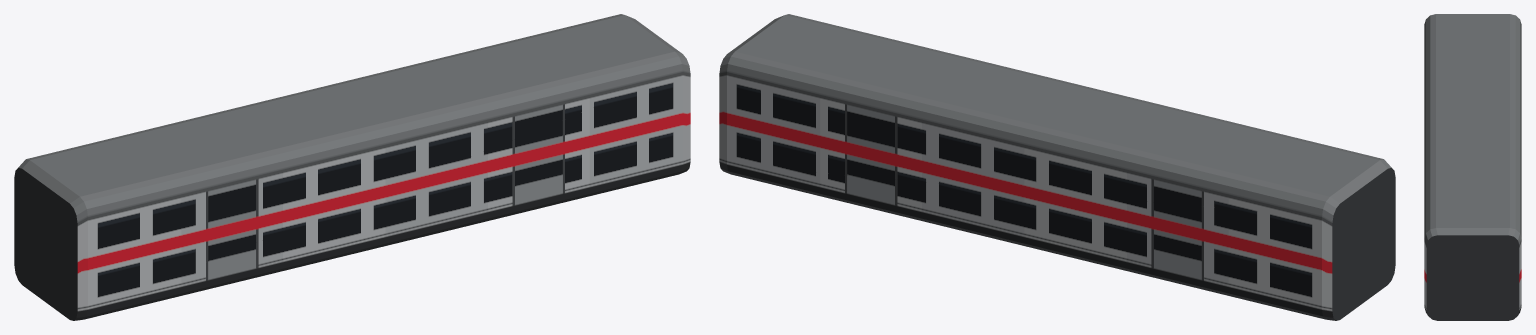
Rendered from rer_generic_A__neutral.glb.
3 views of the same model, side by side, from view 1: azimuth 30°, elevation 25°; view 2: azimuth 150°, elevation 25°; view 3: azimuth 270°, elevation 25° (orthographic). The views are drawn at different scales.
Parts seen in each view (by area): view 1: rer_generic_A__neutral; view 2: rer_generic_A__neutral; view 3: rer_generic_A__neutral.
Boxes of the visible parts, x1,y1,x2,y2 form: rer_generic_A__neutral: [14, 14, 690, 320]; rer_generic_A__neutral: [719, 14, 1395, 320]; rer_generic_A__neutral: [1424, 14, 1521, 320].
Size of the model in its own units: 15 by 2.85 by 2.8.
Materials: 1 (1 with a texture image).
